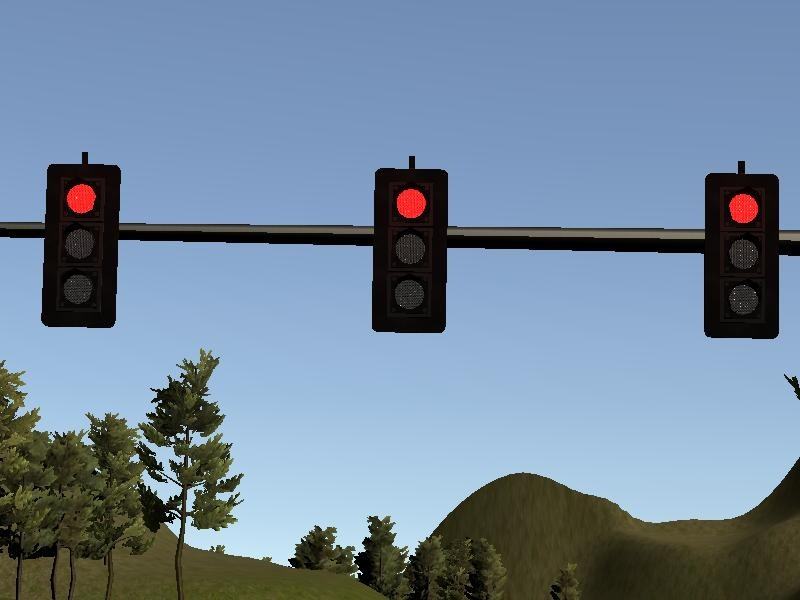red: (701, 175, 781, 338), (41, 166, 120, 326), (369, 169, 448, 329)
